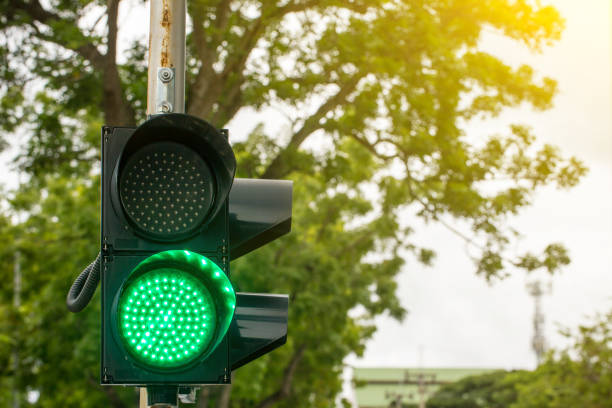trafficlight: (99, 110, 232, 391)
